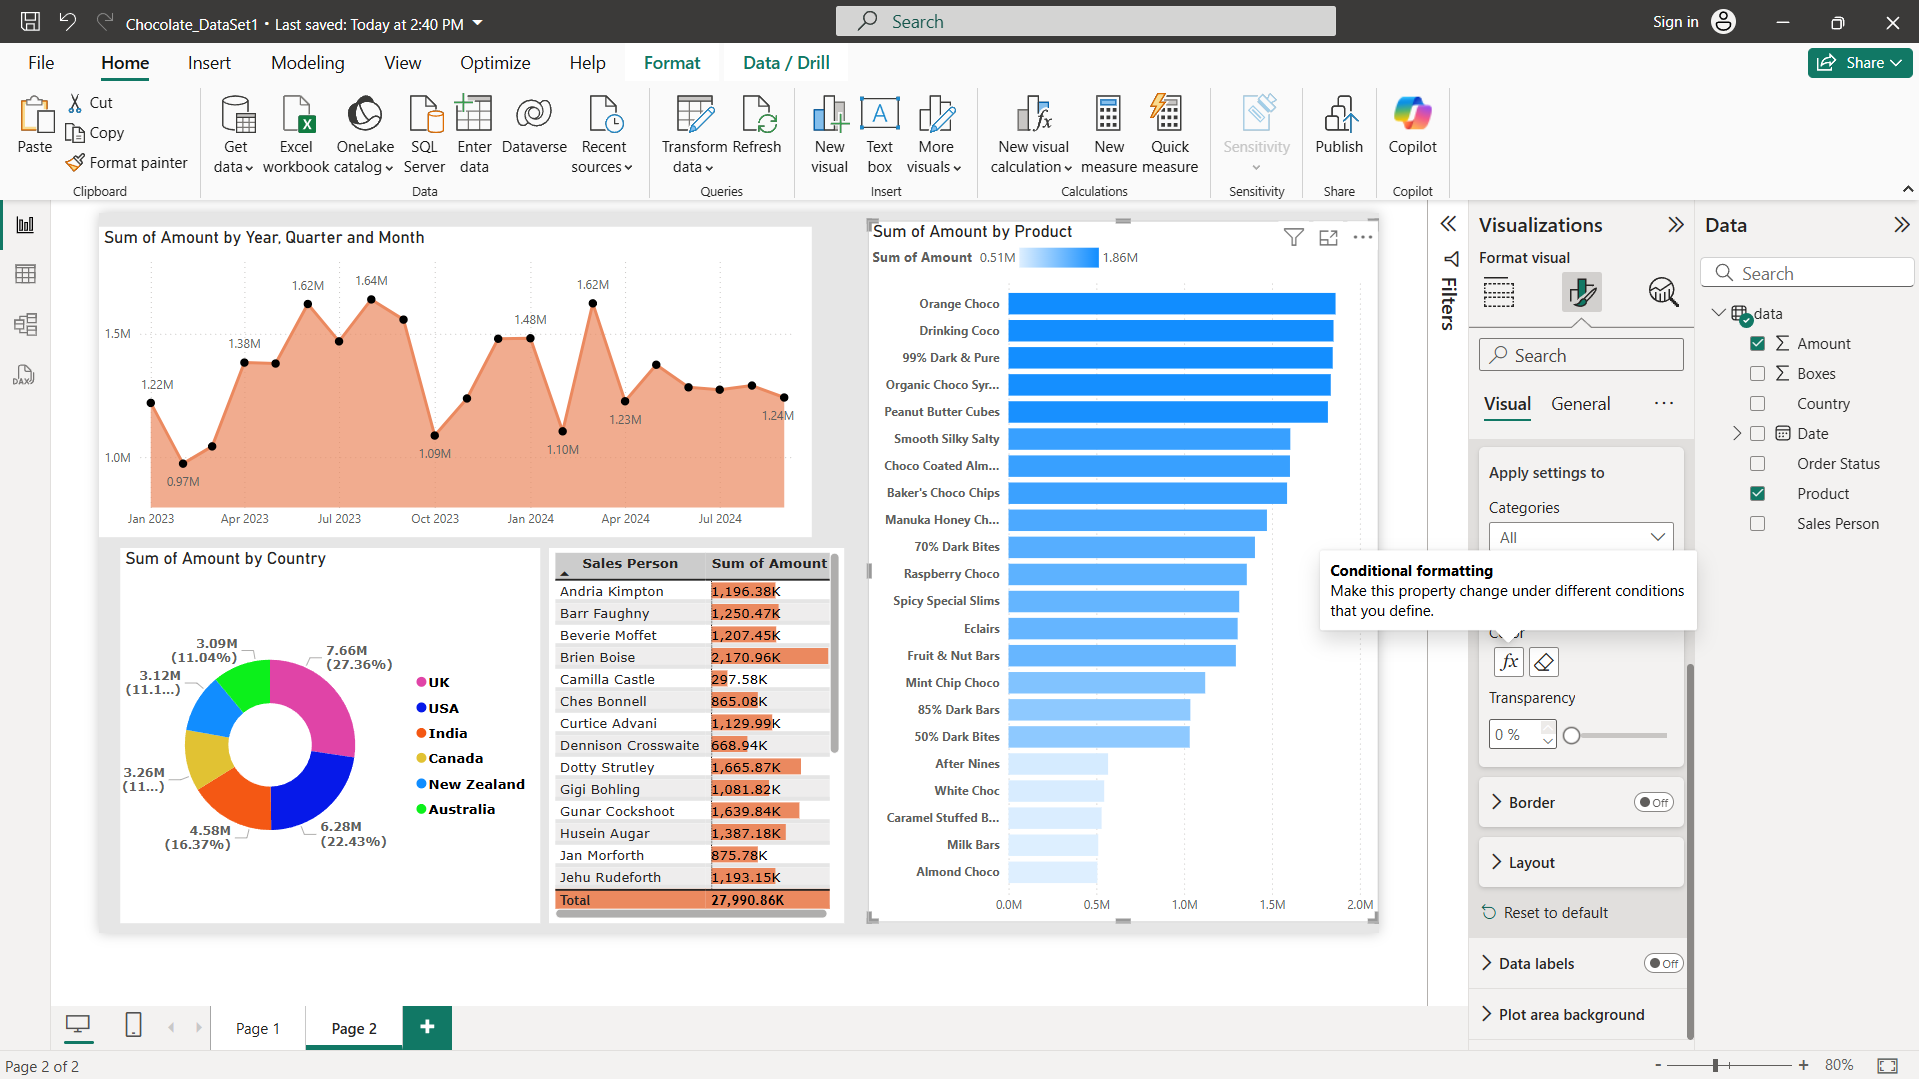

This screenshot's page, from the dashboard's own definition file:
{"tool":"powerbi","page":{"name":"Page 2","canvas":[1280,720],"ordinal":1},"visuals":[{"type":"lineChart","fields":{"Category":["data.Date.Variation.Date Hierarchy.Year","data.Date.Variation.Date Hierarchy.Quarter","data.Date.Variation.Date Hierarchy.Month","data.Date.Variation.Date Hierarchy.Day"],"Y":["Sum(data.Amount)"]},"box":[0,103.8,790,282.5],"z":0},{"type":"donutChart","fields":{"Category":["data.Country"],"Y":["Sum(data.Amount)"]},"box":[18.8,395,405,312.5],"z":1000},{"type":"tableEx","fields":{"Values":["data.Sales Person","Sum(data.Amount)"]},"box":[455,395,335,325],"z":2000},{"type":"clusteredBarChart","fields":{"Category":["data.Product"],"Y":["Sum(data.Amount)"]},"box":[808.8,103.8,471.2,616.2],"z":3000},{"type":"cardVisual","fields":{"Data":["Sum(data.Amount)","Sum(data.Boxes)"]},"box":[346.2,0,443.8,103.8],"z":4000},{"type":"slicer","fields":{"Values":["data.Date"]},"box":[808.8,5,471.2,90],"z":5000},{"type":"textbox","box":[8.8,5,327.5,63.8],"z":6000}]}

Visuals, with their boxes on the page's 1280x720 design canvas (x1, y1, x2, y2). These are canvas units, not pixel positions in the 1919x1079 screenshot, which may show the page scaled, cropped or inside an application window:
lineChart - data.Date.Variation.Date Hierarchy.Year x data.Date.Variation.Date Hierarchy.Quarter: l=0, t=104, r=790, b=386
donutChart - data.Country x Sum(data.Amount): l=19, t=395, r=424, b=708
tableEx - data.Sales Person x Sum(data.Amount): l=455, t=395, r=790, b=720
clusteredBarChart - data.Product x Sum(data.Amount): l=809, t=104, r=1280, b=720
cardVisual - Sum(data.Amount) x Sum(data.Boxes): l=346, t=0, r=790, b=104
slicer - data.Date: l=809, t=5, r=1280, b=95
textbox: l=9, t=5, r=336, b=69
